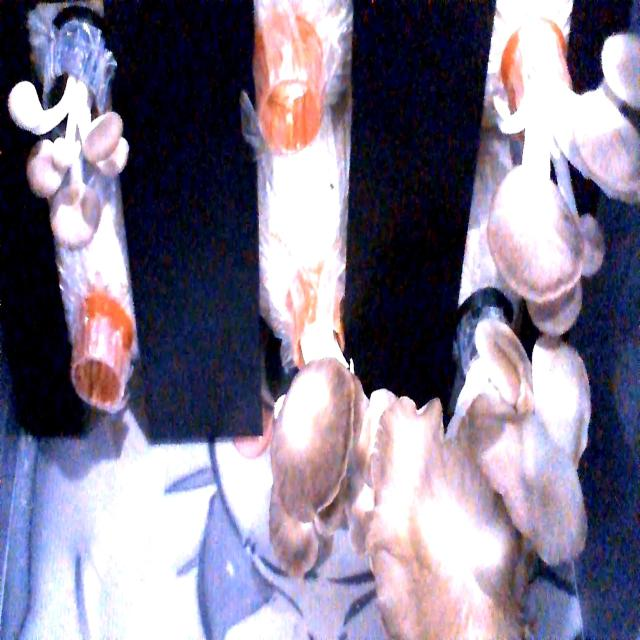big: (366, 350, 602, 640), (485, 40, 640, 349), (259, 326, 409, 564)
nfound: (259, 58, 329, 164), (60, 359, 134, 421)
small: (1, 74, 150, 261)
